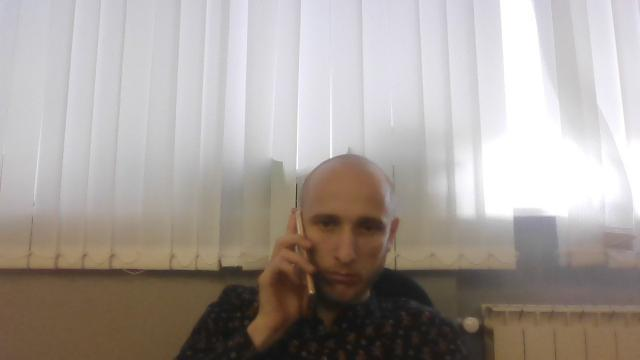PhoneUse: (280, 207, 318, 305)
SafeDriving: (352, 218, 388, 242)
